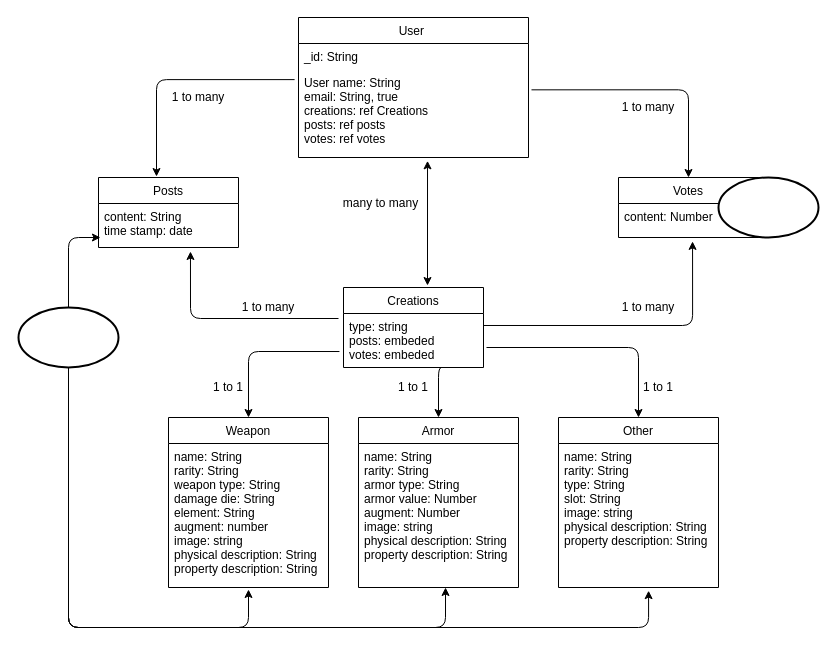
The diagram is 836 pixels wide and 653 high, and some of its shapes have lost their labels. Here are the shapes that lost their labels. From the top down, the centre of each, then its label:
At point 768,207: "Ice box Votes".
At point 68,337: "Full CRUD".
